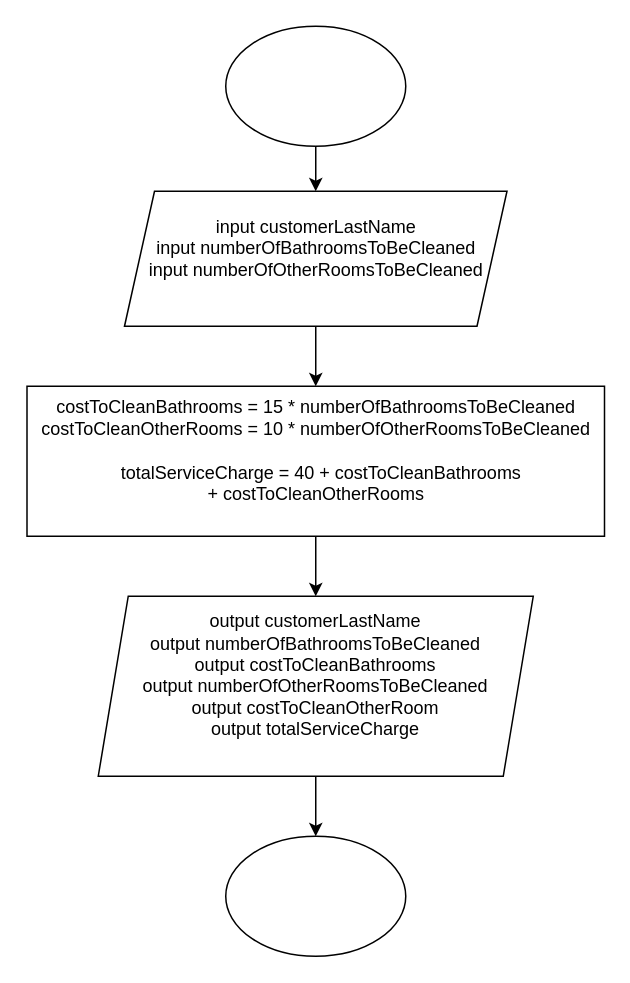
The diagram is 630 pixels wide and 983 high, and some of its shapes have lost their labels. Each missing label, with the box of its shape:
end: (224, 835, 406, 956)
start: (224, 25, 406, 146)
